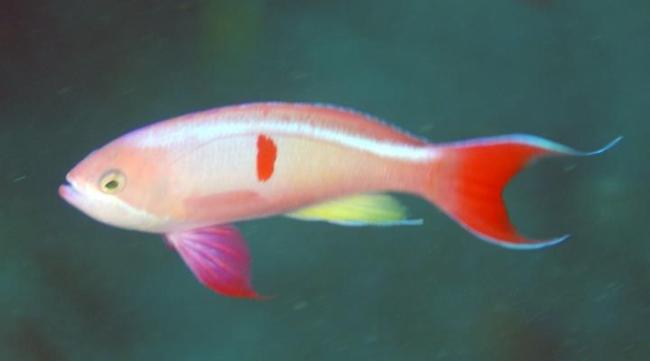fish: (58, 101, 622, 303)
